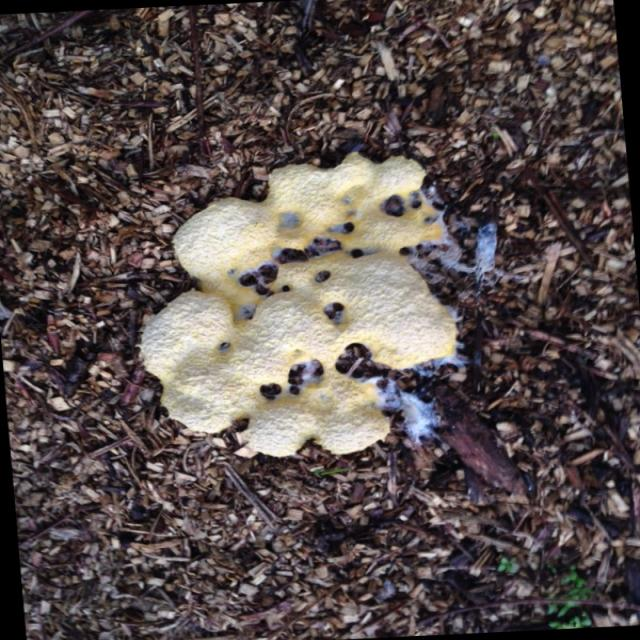Dog_vomit_slime_mold: (121, 172, 506, 470)
